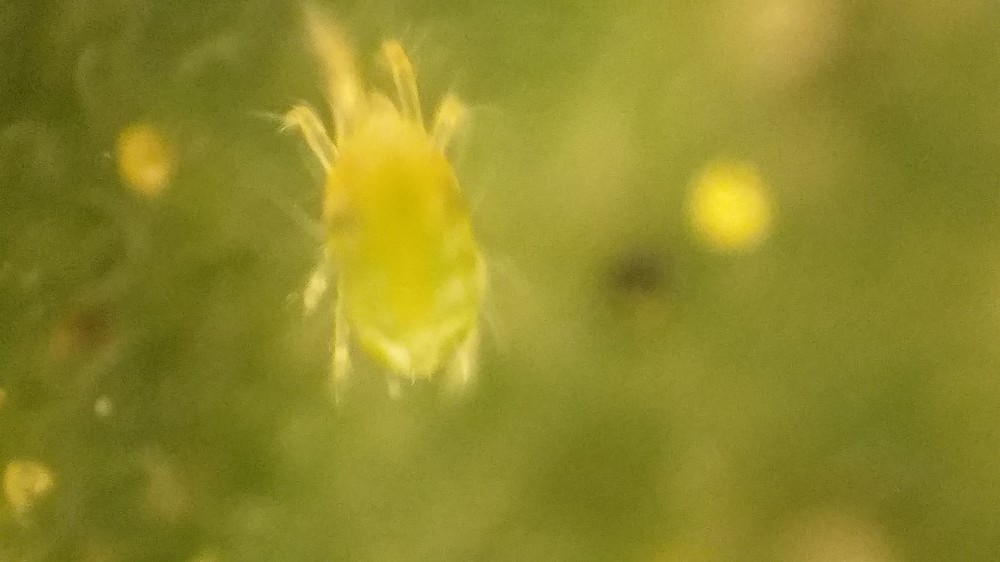Aracnido Rojo: (248, 30, 567, 434)
